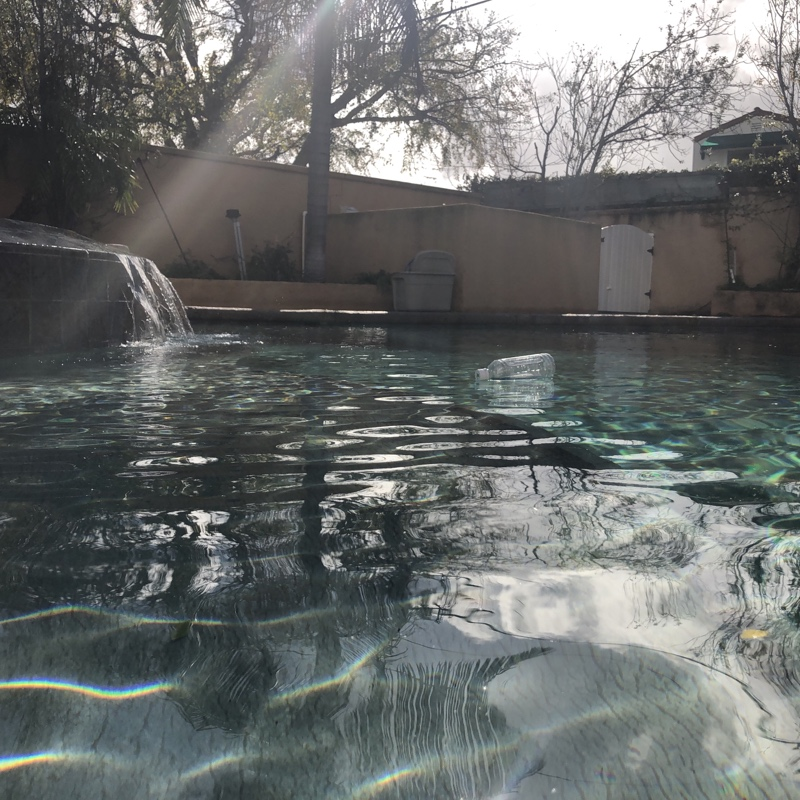Plastic Bottle: (471, 351, 556, 387)
